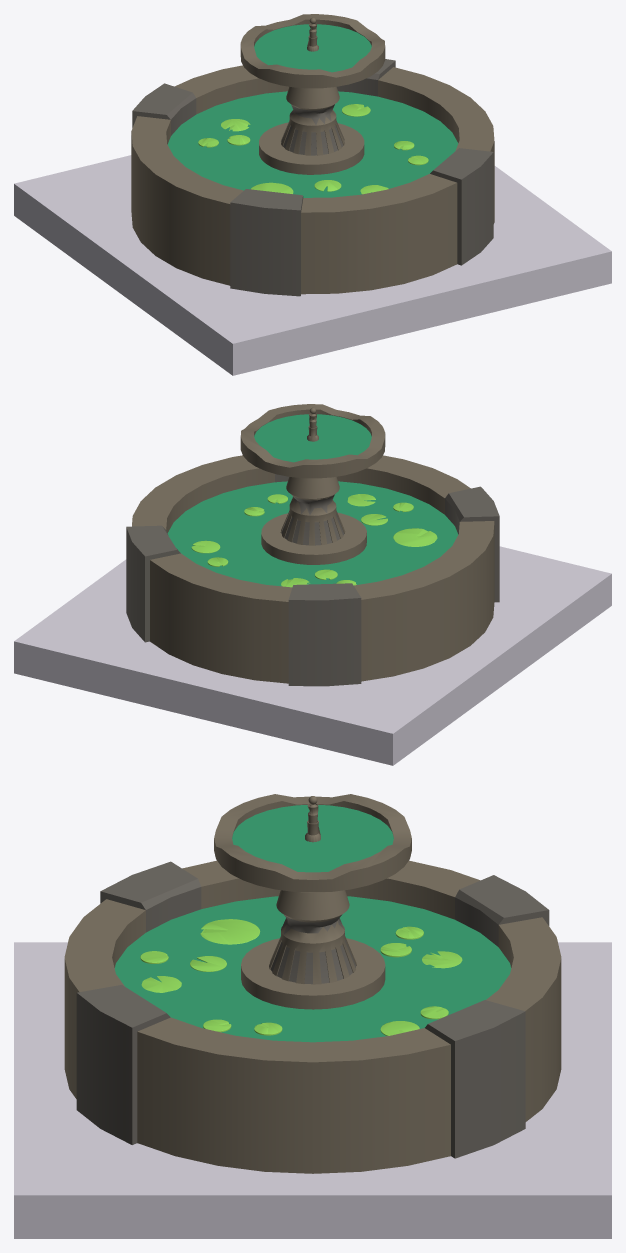
The model's file is grass_pool.fbx.
3 renders of one model, top to bottom at view 1: azimuth 30°, elevation 25°; view 2: azimuth 150°, elevation 25°; view 3: azimuth 270°, elevation 25°, orthographic. The views are drawn at different scales.
Parts seen in each view (by area): view 1: pool, Cube.016; view 2: pool, Cube.016; view 3: pool, Cube.016.
Boxes of the visible parts, <box> form: pool: <box>131,14,494,296</box>; Cube.016: <box>14,155,611,375</box>; pool: <box>126,404,499,686</box>; Cube.016: <box>14,546,611,765</box>; pool: <box>64,794,561,1173</box>; Cube.016: <box>14,942,611,1238</box>.
Bounding box in the file's own units: 603 × 352 × 603.
